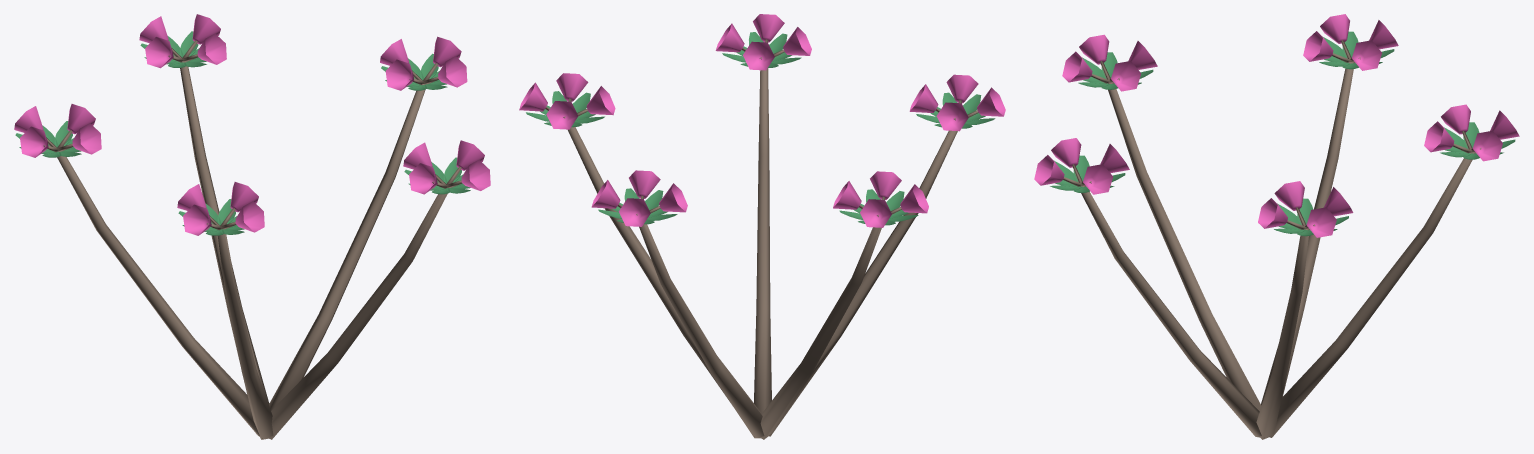
File: shrub_alpine_rose.glb
3 views of the same model, side by side, from view 1: azimuth 30°, elevation 25°; view 2: azimuth 150°, elevation 25°; view 3: azimuth 270°, elevation 25° (orthographic). The views are drawn at different scales.
Parts seen in each view (by area): view 1: Flora_Alpine_Rose; view 2: Flora_Alpine_Rose; view 3: Flora_Alpine_Rose.
Part boxes in pixels (bbox=[...]): Flora_Alpine_Rose: bbox=[14, 14, 490, 439]; Flora_Alpine_Rose: bbox=[519, 14, 1005, 439]; Flora_Alpine_Rose: bbox=[1034, 14, 1519, 439].
Bounding box in the file's own units: 1.13 × 0.8295 × 1.11.
